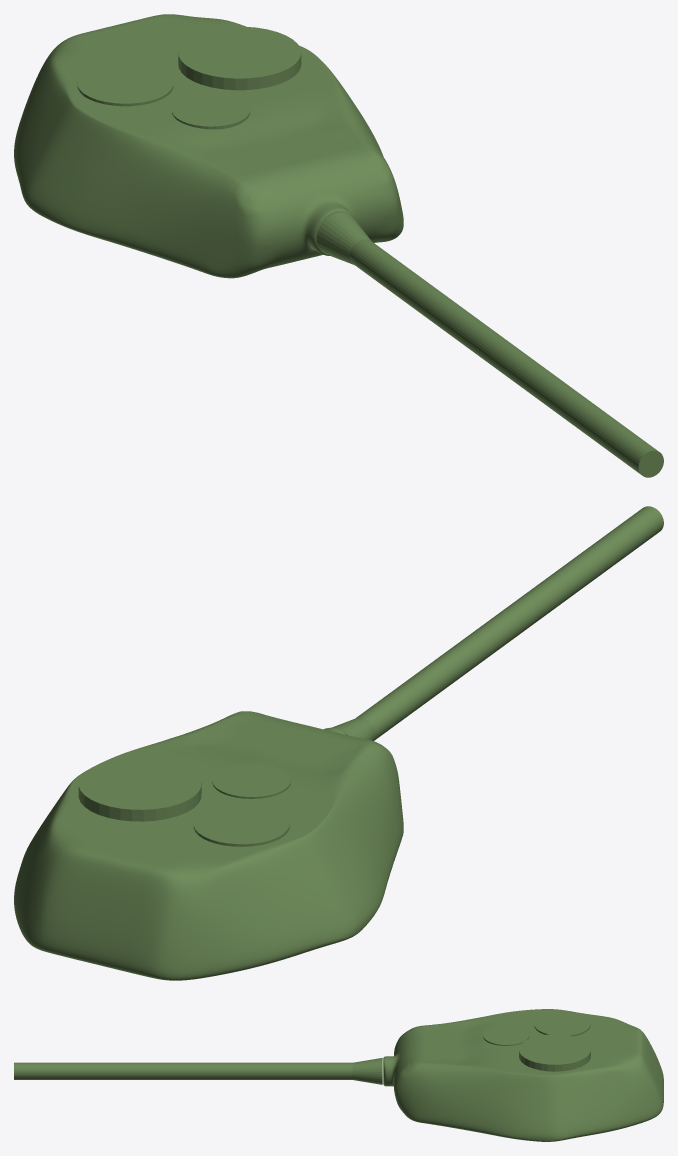
Rendered from Turret.fbx.
The picture shows the model from 3 angles, top to bottom: view 1: azimuth 30°, elevation 25°; view 2: azimuth 150°, elevation 25°; view 3: azimuth 270°, elevation 25°; orthographic projection. The views are drawn at different scales.
Parts seen in each view (by area): view 1: Turret; view 2: Turret; view 3: Turret.
Part boxes in pixels (<box>): Turret: <box>14,14,663,477</box>; Turret: <box>14,506,663,980</box>; Turret: <box>14,1009,663,1141</box>.
Size of the model in its own units: 716 by 260 by 2112.
